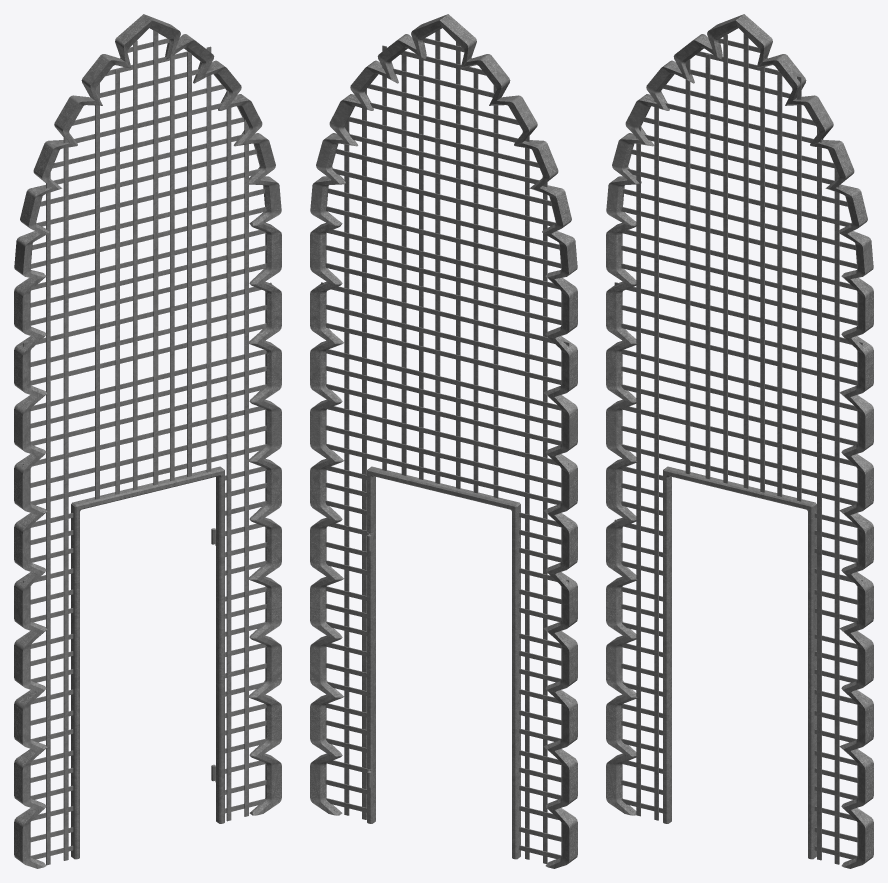
File: SM_IronGrate.fbx
3 views of the same model, side by side, from view 1: azimuth 30°, elevation 25°; view 2: azimuth 150°, elevation 25°; view 3: azimuth 330°, elevation 25° (orthographic).
Visible parts, largest first — view 1: SM_IronGrate_LOD0; view 2: SM_IronGrate_LOD0; view 3: SM_IronGrate_LOD0.
Boxes of the visible parts, bbox=[...] form: SM_IronGrate_LOD0: bbox=[14, 14, 281, 868]; SM_IronGrate_LOD0: bbox=[310, 14, 577, 868]; SM_IronGrate_LOD0: bbox=[606, 14, 873, 868].
Bounding box in the file's own units: 230 × 14.87 × 697.
Materials: 1 (1 with a texture image).
